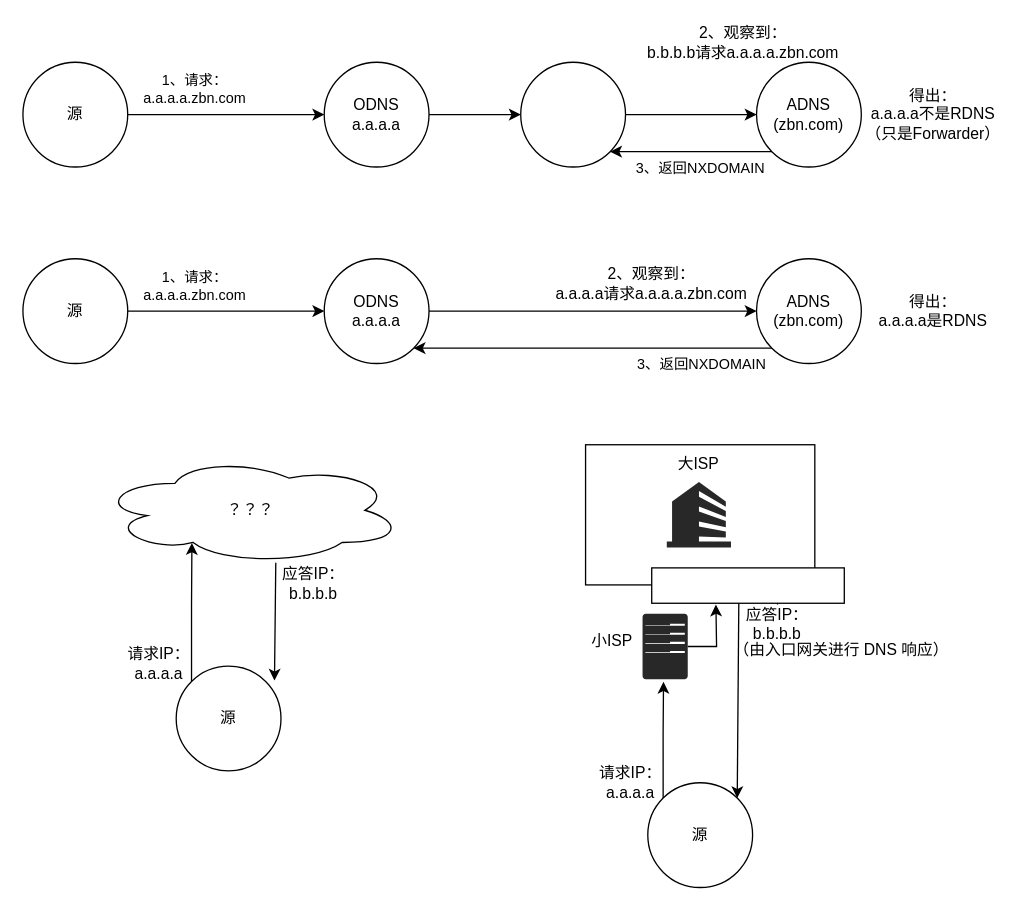
This 1028x910 diagram has some shape labels left out. The shapes that lost their labels are listed below. From the top down, each one's centre as x and y in pixels, then its label:
the point at 572,114: RDNS b.b.b.b
the point at 747,585: 小ISP购买的接入服务点
